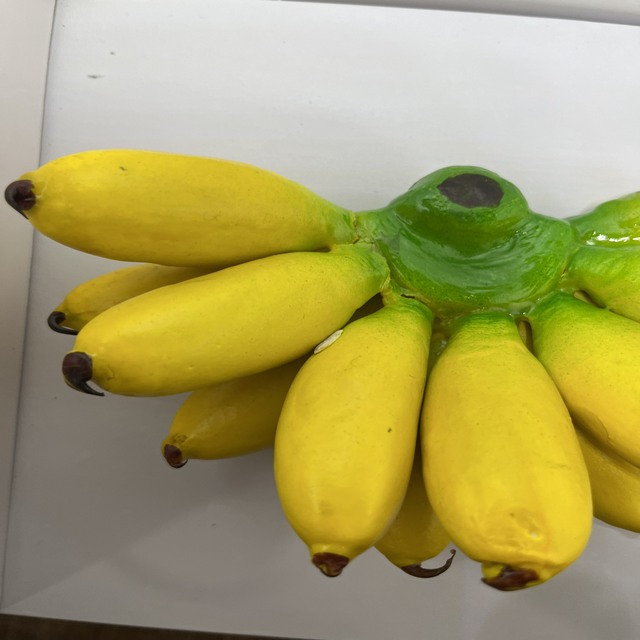Chuoi: (5, 143, 640, 595)
